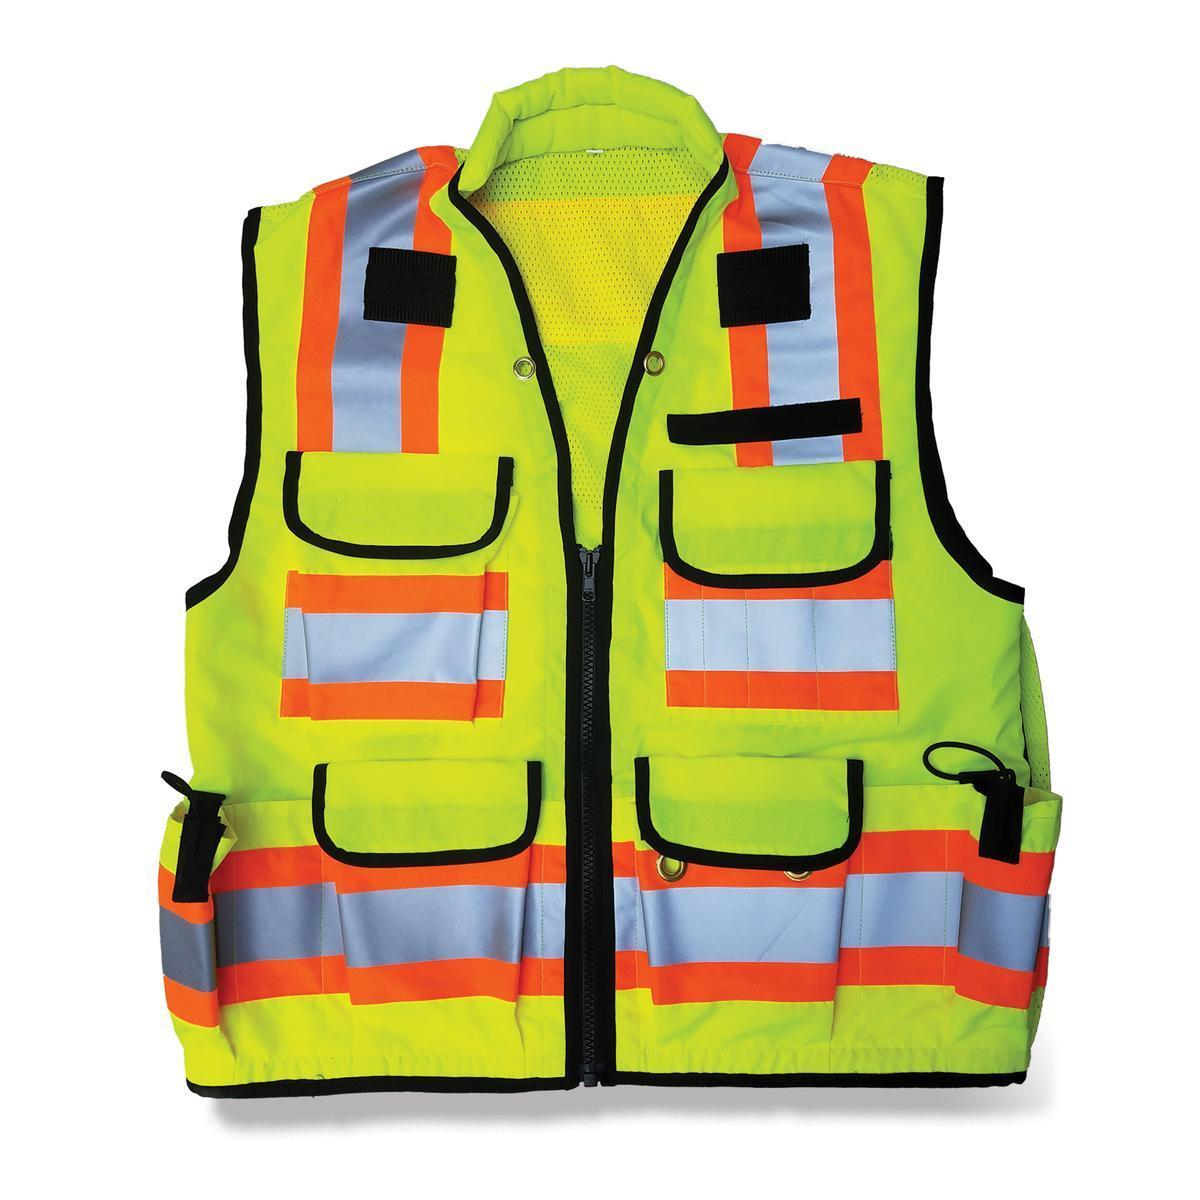vest: (148, 57, 1065, 1095)
